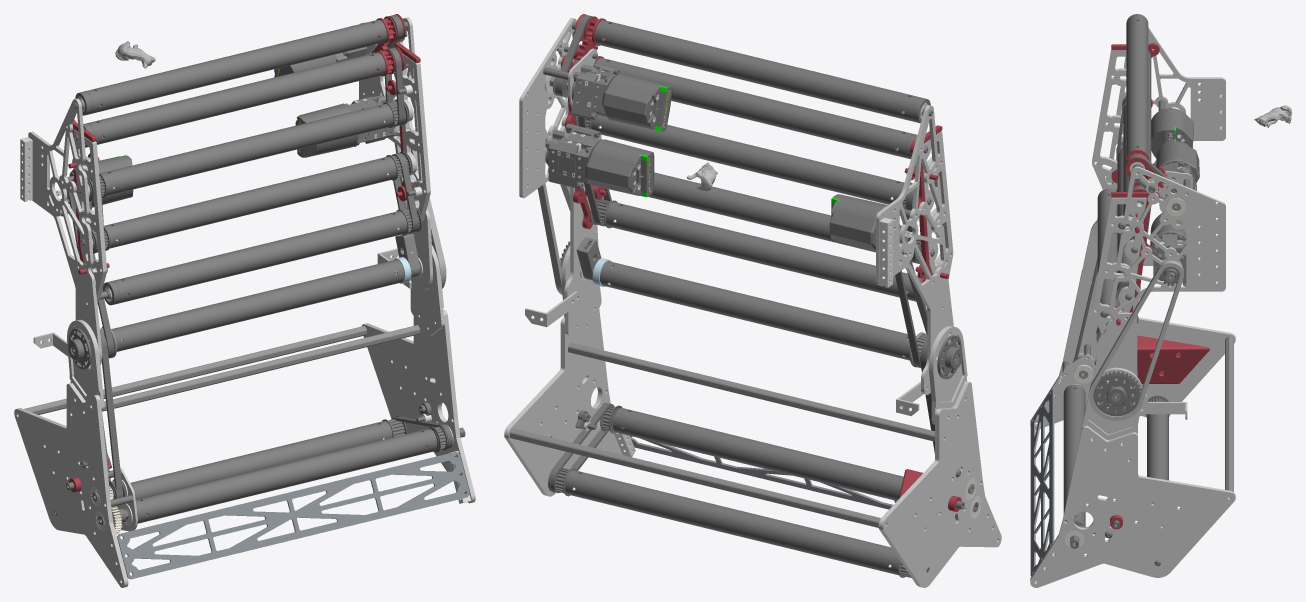
3 renders of one model, left to right at view 1: azimuth 30°, elevation 25°; view 2: azimuth 150°, elevation 25°; view 3: azimuth 270°, elevation 25°, orthographic. The views are drawn at different scales.
Visible parts, largest first — view 1: 1.125" ID x 1.25" OD Aluminum Round Tube Stock (47") (WCP-12 (×8), 26-259M, 26-237P-Mirrored, 26-237P, 26-234A, 1/2" ThunderHex (21 in) (×2), 26-232A, 26-233A, 26-232A-Mirrored, Kraken X60 Brushless Motor (×2), 26-236A, 26-236A-Mirrored (+7 smaller); view 2: 1.125" ID x 1.25" OD Aluminum Round Tube Stock (47") (WCP-12 (×8), 26-237P-Mirrored, Kraken X60 Brushless Motor (×3), 1/2" ThunderHex (21 in) (×2), 26-237P, 26-234A, 26-233A, 26-259M, 26-236A-Mirrored, 26-232A-Mirrored, 26-236A, MAXPlanetary Output Slice (×2) (+9 smaller); view 3: 26-237P, 26-233A, 1.125" ID x 1.25" OD Aluminum Round Tube Stock (47") (WCP-12 (×7), 26-237P-Mirrored, 26-234A, 26-259M, Kraken X60 Brushless Motor (×3), 26-232A, occurrence of 26-257, 92L #25 Chain, 26-232A-Mirrored, 26-236A (+12 smaller).
Boxes of the visible parts, x1=… form: 1.125" ID x 1.25" OD Aluminum Round Tube Stock (47") (WCP-12 (×8): x1=85, y1=19, x2=435, y2=523; 26-259M: x1=117, y1=452, x2=469, y2=579; 26-237P-Mirrored: x1=14, y1=383, x2=128, y2=587; 26-237P: x1=362, y1=310, x2=475, y2=503; 26-234A: x1=28, y1=98, x2=102, y2=364; 1/2" ThunderHex (21 in) (×2): x1=24, y1=325, x2=420, y2=414; 26-232A: x1=402, y1=53, x2=430, y2=221; 26-233A: x1=359, y1=17, x2=432, y2=290; 26-232A-Mirrored: x1=73, y1=129, x2=106, y2=301; Kraken X60 Brushless Motor (×2): x1=56, y1=104, x2=358, y2=207; 26-236A: x1=410, y1=244, x2=444, y2=336; 26-236A-Mirrored: x1=67, y1=319, x2=104, y2=410; 1.125" ID x 1.25" OD Aluminum Round Tube Stock (47") (WCP-12 (×8): x1=565, y1=20, x2=921, y2=575; 26-237P-Mirrored: x1=878, y1=381, x2=1001, y2=587; Kraken X60 Brushless Motor (×3): x1=585, y1=73, x2=912, y2=251; 1/2" ThunderHex (21 in) (×2): x1=509, y1=342, x2=934, y2=527; 26-237P: x1=504, y1=309, x2=622, y2=496; 26-234A: x1=876, y1=105, x2=953, y2=394; 26-233A: x1=519, y1=18, x2=598, y2=299; 26-259M: x1=630, y1=436, x2=896, y2=509; 26-236A-Mirrored: x1=928, y1=326, x2=967, y2=424; 26-232A-Mirrored: x1=923, y1=131, x2=953, y2=278; 26-236A: x1=561, y1=245, x2=601, y2=335; MAXPlanetary Output Slice (×2): x1=545, y1=63, x2=604, y2=183; 26-237P: x1=1030, y1=425, x2=1235, y2=587; 26-233A: x1=1094, y1=166, x2=1225, y2=415; 1.125" ID x 1.25" OD Aluminum Round Tube Stock (47") (WCP-12 (×7): x1=1063, y1=16, x2=1168, y2=526; 26-237P-Mirrored: x1=1030, y1=270, x2=1235, y2=429; 26-234A: x1=1093, y1=27, x2=1225, y2=251; 26-259M: x1=1030, y1=389, x2=1054, y2=576; Kraken X60 Brushless Motor (×3): x1=1150, y1=108, x2=1199, y2=254; 26-232A: x1=1092, y1=197, x2=1146, y2=333; occurrence of 26-257: x1=1137, y1=335, x2=1210, y2=384; 92L #25 Chain: x1=1089, y1=260, x2=1183, y2=420; 26-232A-Mirrored: x1=1092, y1=50, x2=1126, y2=190; 26-236A: x1=1080, y1=367, x2=1142, y2=449.
Bounding box in the file's own units: 0.5808 × 0.6732 × 0.3786.
